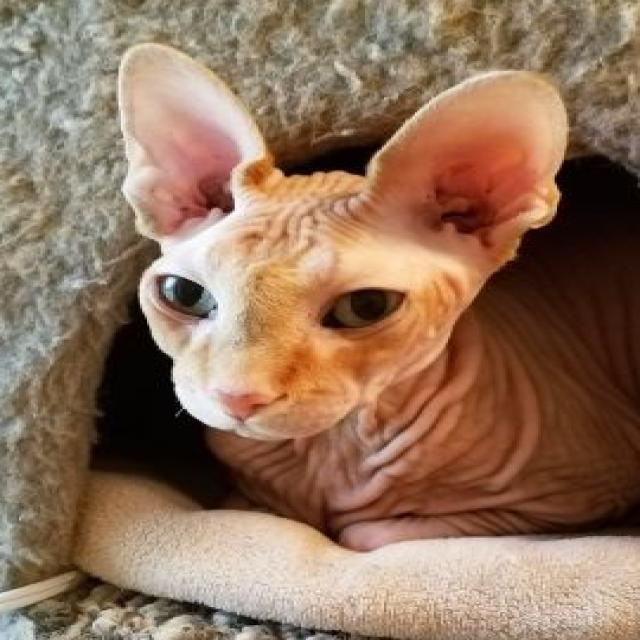Sphynx: (106, 38, 640, 556)
